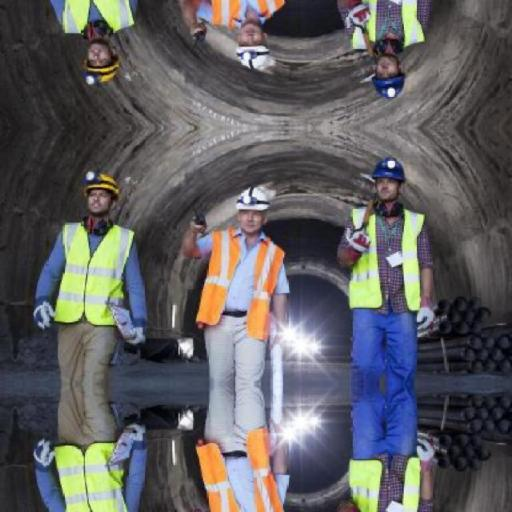Person: (27, 142, 162, 432), (331, 132, 460, 416), (186, 152, 302, 426)
gloves: (411, 299, 437, 340), (350, 220, 374, 260), (32, 298, 60, 328), (127, 323, 149, 356)
helmet: (226, 178, 279, 218), (366, 150, 415, 192), (74, 170, 123, 204)
vest: (347, 199, 424, 320), (54, 218, 128, 332), (204, 225, 276, 341)
